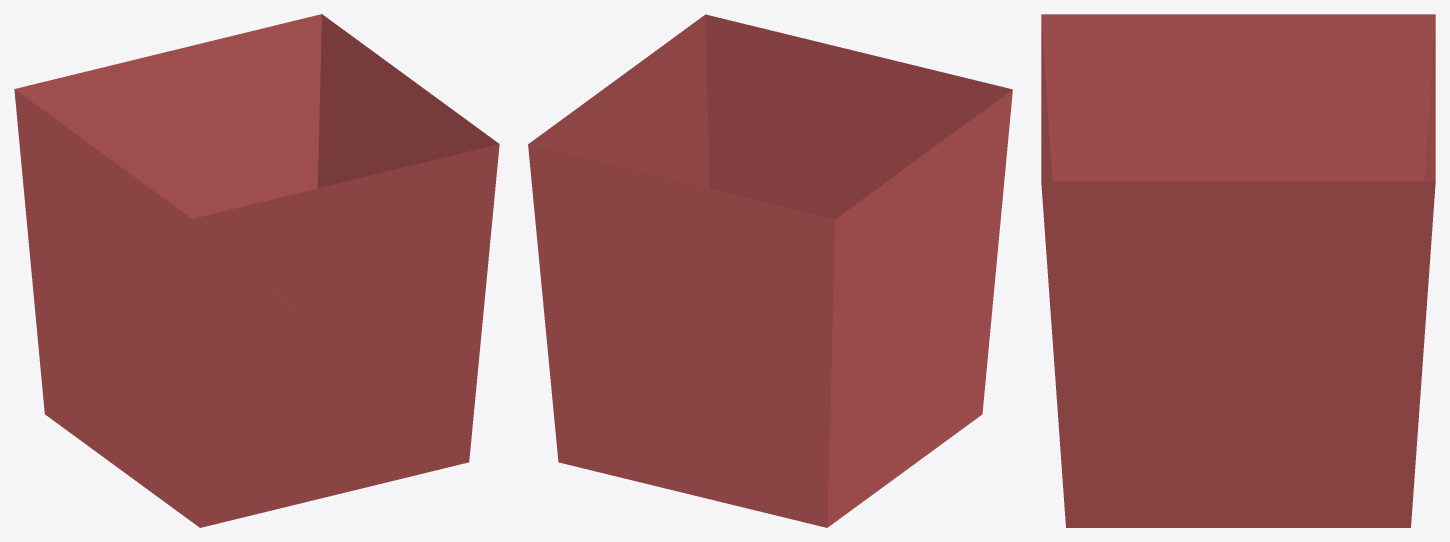
Rendered from koopa1_boss.glb.
The picture shows the model from 3 angles, left to right: view 1: azimuth 30°, elevation 25°; view 2: azimuth 150°, elevation 25°; view 3: azimuth 270°, elevation 25°; orthographic projection. The views are drawn at different scales.
Visible parts, largest first — view 1: koopa1_boss_col; view 2: koopa1_boss_col; view 3: koopa1_boss_col.
Boxes of the visible parts, x1,y1,x2,y2 form: koopa1_boss_col: (14, 14, 499, 527); koopa1_boss_col: (528, 14, 1012, 527); koopa1_boss_col: (1041, 14, 1435, 527).
Size of the model in its own units: 16.01 by 16.02 by 16.01.
